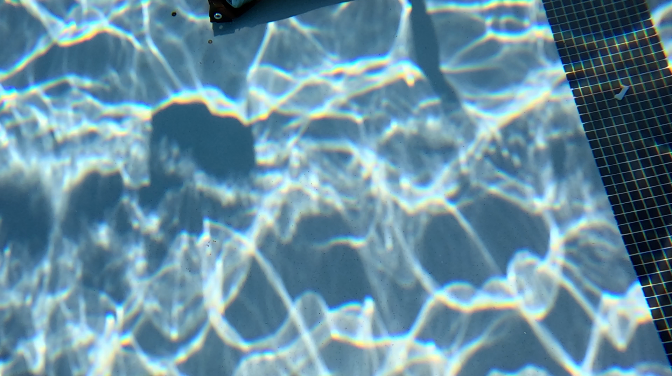sandbag: (207, 0, 261, 22)
